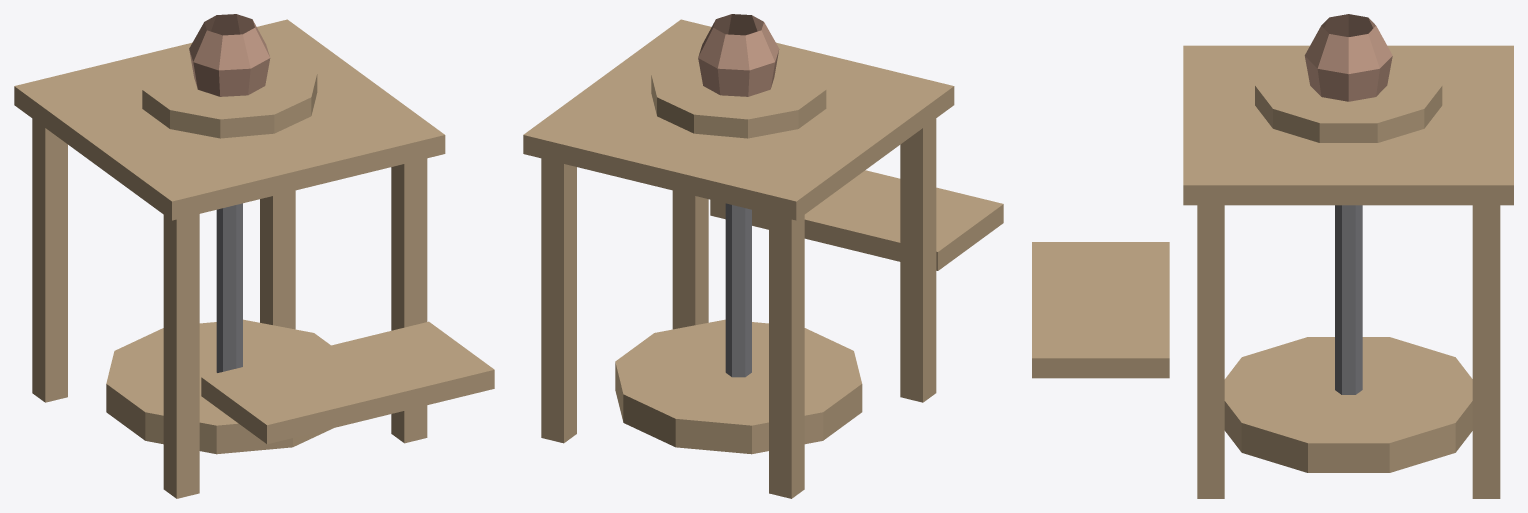
File: prop-potter-wheel-pt1.fbx
3 renders of one model, left to right at view 1: azimuth 30°, elevation 25°; view 2: azimuth 150°, elevation 25°; view 3: azimuth 270°, elevation 25°, orthographic. The views are drawn at different scales.
Parts seen in each view (by area): view 1: prop-potter-wheel-pt1; view 2: prop-potter-wheel-pt1; view 3: prop-potter-wheel-pt1.
Part boxes in pixels (x1=…): prop-potter-wheel-pt1: x1=14, y1=14, x2=494, y2=498; prop-potter-wheel-pt1: x1=523, y1=14, x2=1003, y2=498; prop-potter-wheel-pt1: x1=1032, y1=14, x2=1513, y2=498.
Bounding box in the file's own units: 60 × 82 × 87.5.
